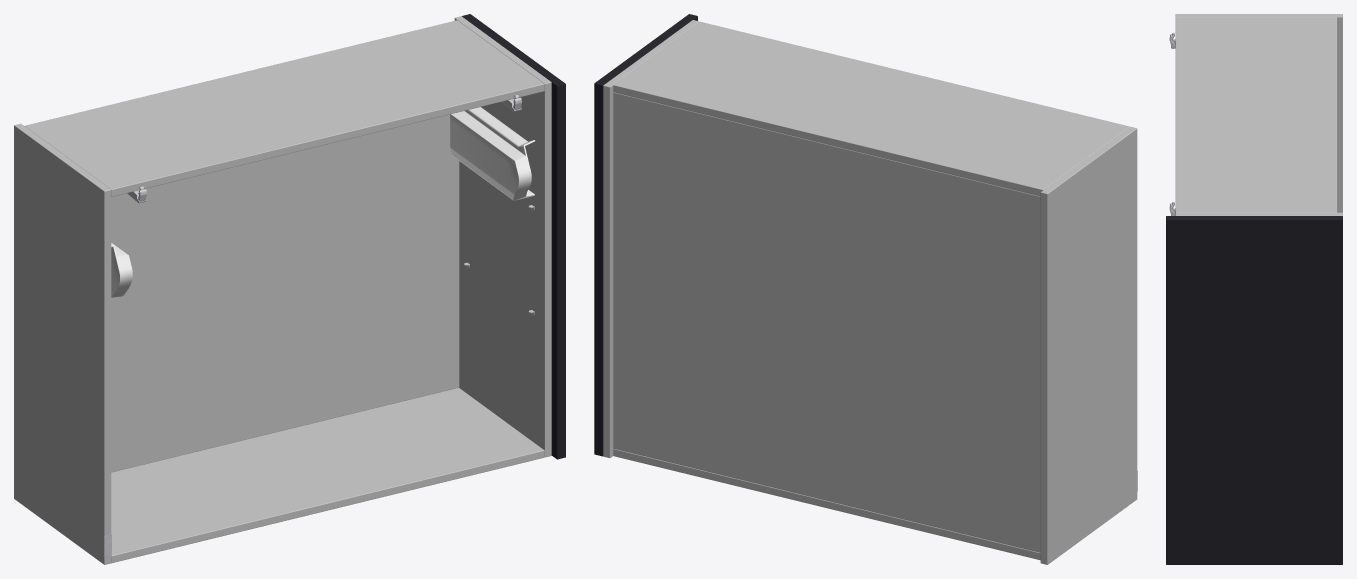
The model's file is SM_Kitchen_04_Base.dae.
3 views of the same model, side by side, from view 1: azimuth 30°, elevation 25°; view 2: azimuth 150°, elevation 25°; view 3: azimuth 270°, elevation 25° (orthographic). The views are drawn at different scales.
Parts seen in each view (by area): view 1: SM_Kitchen_04_Base; view 2: SM_Kitchen_04_Base; view 3: SM_Kitchen_04_Base.
Part boxes in pixels (x1,y1,x2,y2): SM_Kitchen_04_Base: (14,14,565,564); SM_Kitchen_04_Base: (594,14,1137,564); SM_Kitchen_04_Base: (1166,14,1342,564).
Size of the model in its own units: 1.02 by 0.37 by 0.798.
